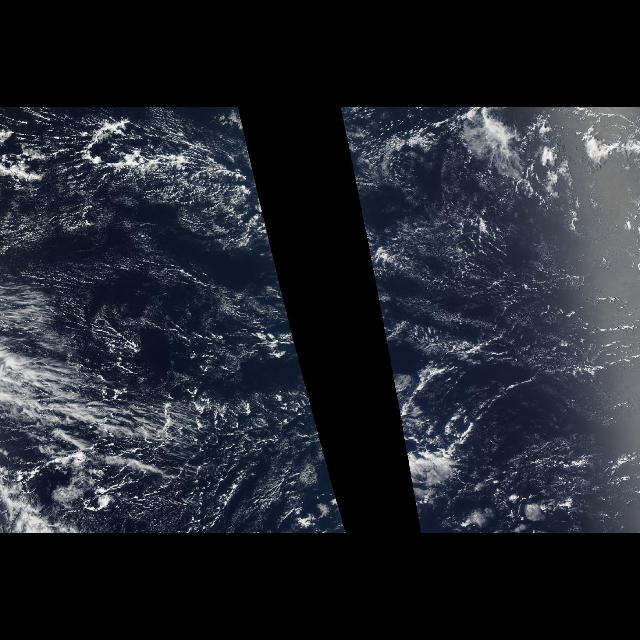Fish: (10, 112, 280, 280), (340, 115, 436, 281)
Gravel: (372, 208, 624, 396)
